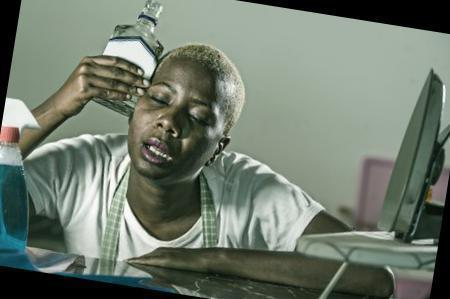Drunk: (141, 71, 215, 175)
